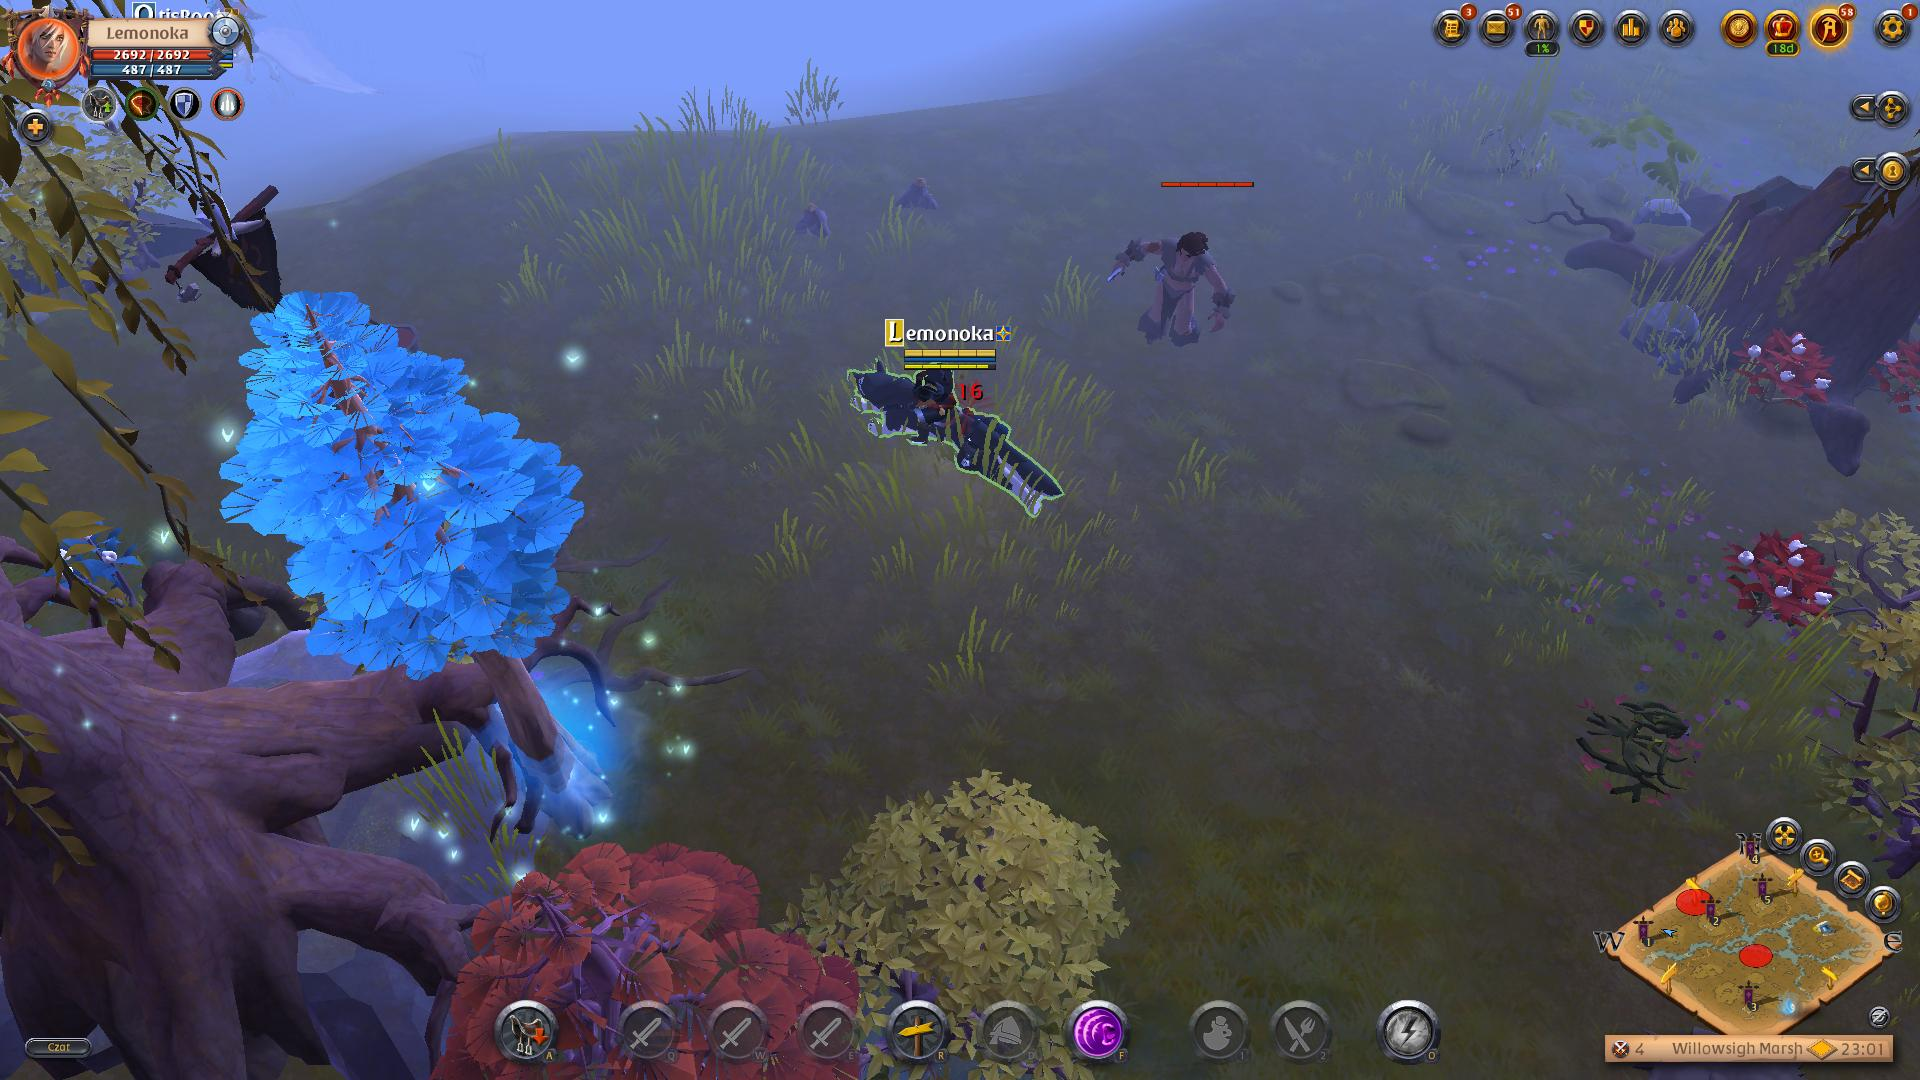fiber tier 5: (1722, 526, 1845, 633), (1733, 323, 1837, 422)
wood tier 4: (216, 289, 588, 682)
